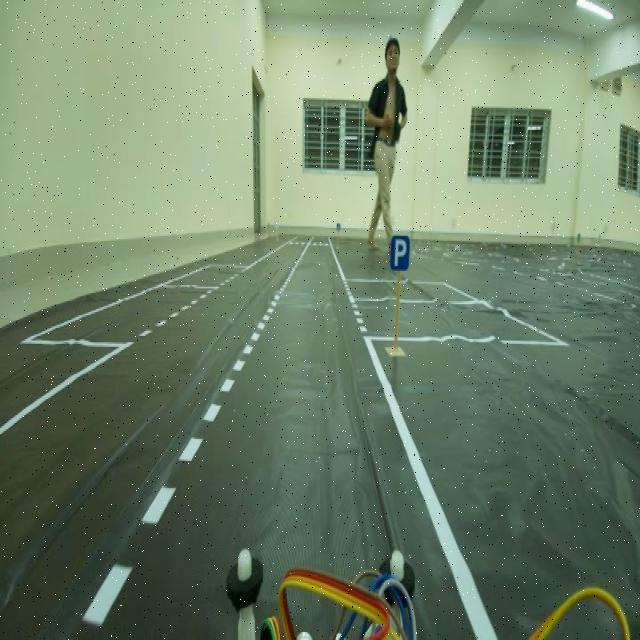parking: (388, 228, 410, 276)
